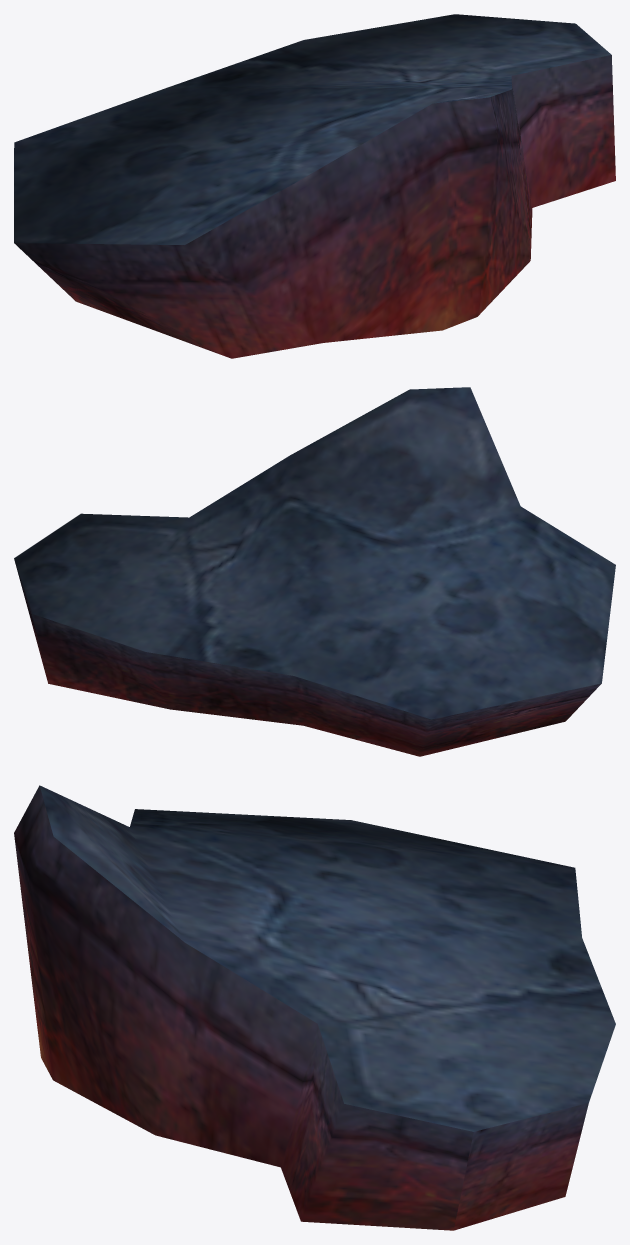
The model's file is Vo_N_Fissure04.FBX.
3 renders of one model, top to bottom at view 1: azimuth 30°, elevation 25°; view 2: azimuth 150°, elevation 25°; view 3: azimuth 270°, elevation 25°, orthographic. The views are drawn at different scales.
Visible parts, largest first — view 1: Vo_N_Fissure04; view 2: Vo_N_Fissure04; view 3: Vo_N_Fissure04.
Boxes of the visible parts, box(x1,y1,x2,y2) form: Vo_N_Fissure04: box(14, 14, 615, 358); Vo_N_Fissure04: box(14, 387, 615, 756); Vo_N_Fissure04: box(14, 785, 615, 1230).
Bounding box in the file's own units: 308 × 111 × 225.
